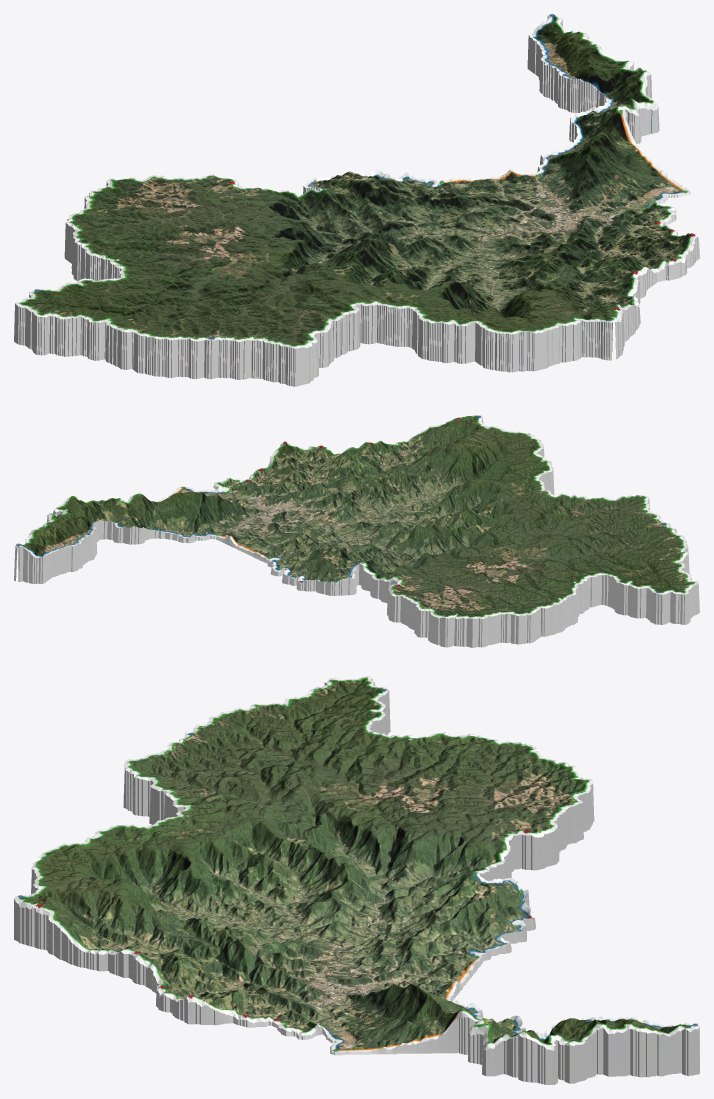
3 renders of one model, top to bottom at view 1: azimuth 30°, elevation 25°; view 2: azimuth 150°, elevation 25°; view 3: azimuth 270°, elevation 25°, orthographic. The views are drawn at different scales.
Bounding box in the file's own units: 1 × 0.061 × 0.785.
1 material, 1 textured.
